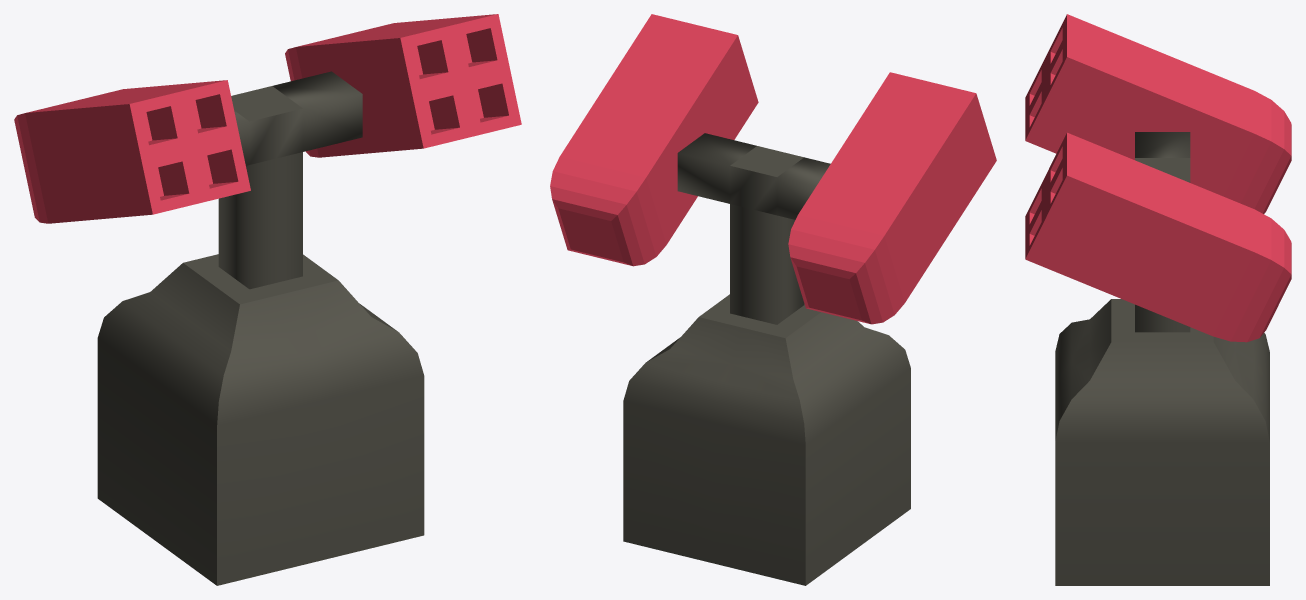
File: Anti.Unity.Game.fbx
3 views of the same model, side by side, from view 1: azimuth 30°, elevation 25°; view 2: azimuth 150°, elevation 25°; view 3: azimuth 270°, elevation 25° (orthographic). The views are drawn at different scales.
Parts seen in each view (by area): view 1: Cube; view 2: Cube; view 3: Cube.
Part boxes in pixels (x1=…): Cube: x1=14, y1=14, x2=521, y2=585; Cube: x1=550, y1=14, x2=996, y2=585; Cube: x1=1025, y1=14, x2=1291, y2=585.
Size of the model in its own units: 2364 by 3043 by 1649.
